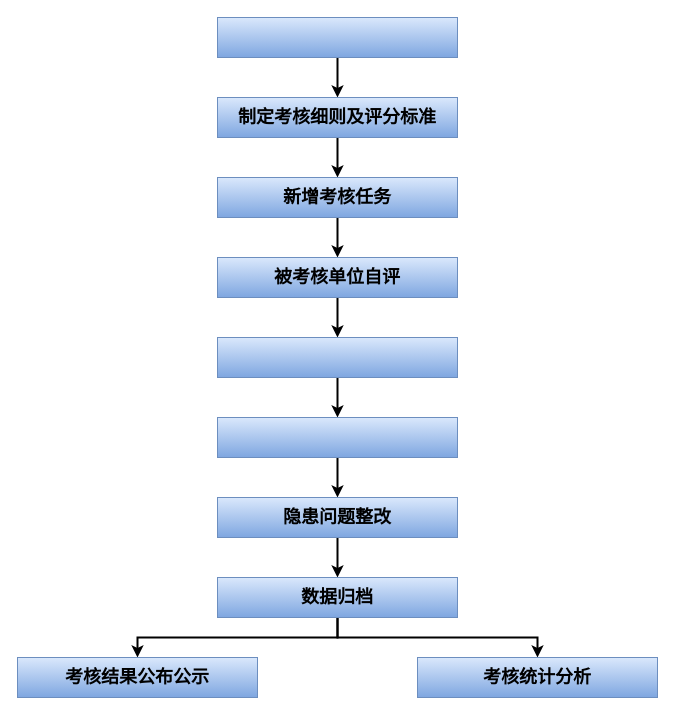
Image size: 675x715. Some labels were removed from this diagram. The shapes that lost their labels are listed below. From the top down, each one's centre as x and y in pixels, then its label:
At pixel 337 37: "安全生产和消防工作考核".
At pixel 337 357: "考核单位反馈".
At pixel 337 437: "考核单位现场复核".
